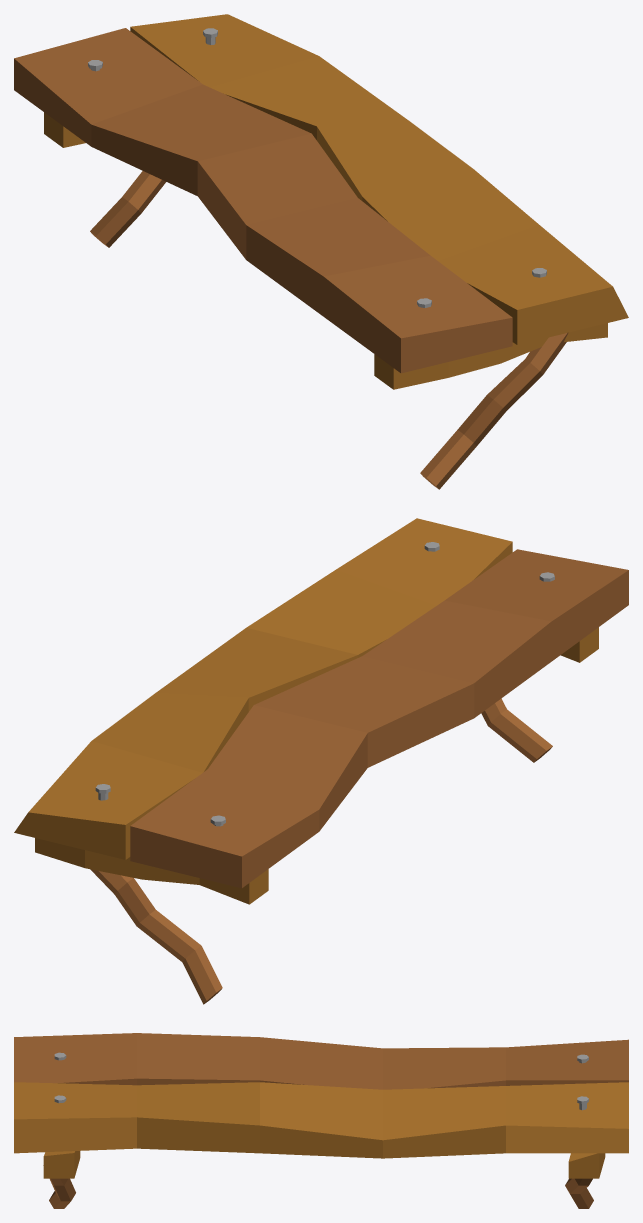
The model's file is shelf_small_2.fbx.
3 renders of one model, top to bottom at view 1: azimuth 30°, elevation 25°; view 2: azimuth 150°, elevation 25°; view 3: azimuth 270°, elevation 25°, orthographic. The views are drawn at different scales.
Parts seen in each view (by area): view 1: Cube.002, Cube.001, Cylinder.001, Cube.004, Cylinder, Cube.003; view 2: Cube.002, Cube.001, Cylinder, Cube.003, Cylinder.001; view 3: Cube.001, Cube.002, Cube.004, Cube.003, Cylinder, Cylinder.001.
Boxes of the visible parts, x1=… form: Cube.002: x1=14, y1=28, x2=512, y2=373; Cube.001: x1=130, y1=14, x2=628, y2=344; Cylinder.001: x1=420, y1=332, x2=568, y2=489; Cube.004: x1=374, y1=323, x2=607, y2=389; Cylinder: x1=90, y1=171, x2=165, y2=247; Cube.003: x1=44, y1=112, x2=85, y2=147; Cube.002: x1=130, y1=549, x2=628, y2=888; Cube.001: x1=14, y1=518, x2=512, y2=859; Cylinder: x1=90, y1=869, x2=222, y2=1004; Cube.003: x1=35, y1=838, x2=268, y2=904; Cylinder.001: x1=481, y1=698, x2=552, y2=762; Cube.001: x1=14, y1=1082, x2=628, y2=1158; Cube.002: x1=14, y1=1033, x2=628, y2=1089; Cube.004: x1=43, y1=1151, x2=80, y2=1178; Cube.003: x1=568, y1=1153, x2=605, y2=1178; Cylinder: x1=565, y1=1178, x2=593, y2=1208; Cylinder.001: x1=43, y1=1165, x2=75, y2=1208.
Size of the model in its own units: 216 by 164 by 600.
